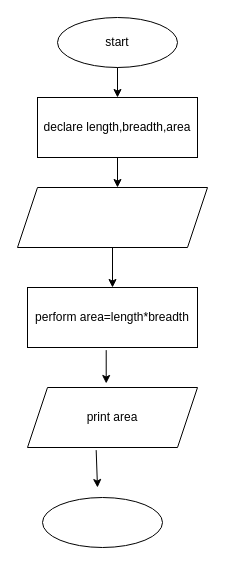
Some shapes in this 225 by 565 pixel diagram are drawn without their labels. Each missing label, with the box of its shape:
read the values of length, breadth: (16, 186, 208, 248)
stop: (42, 496, 162, 548)
